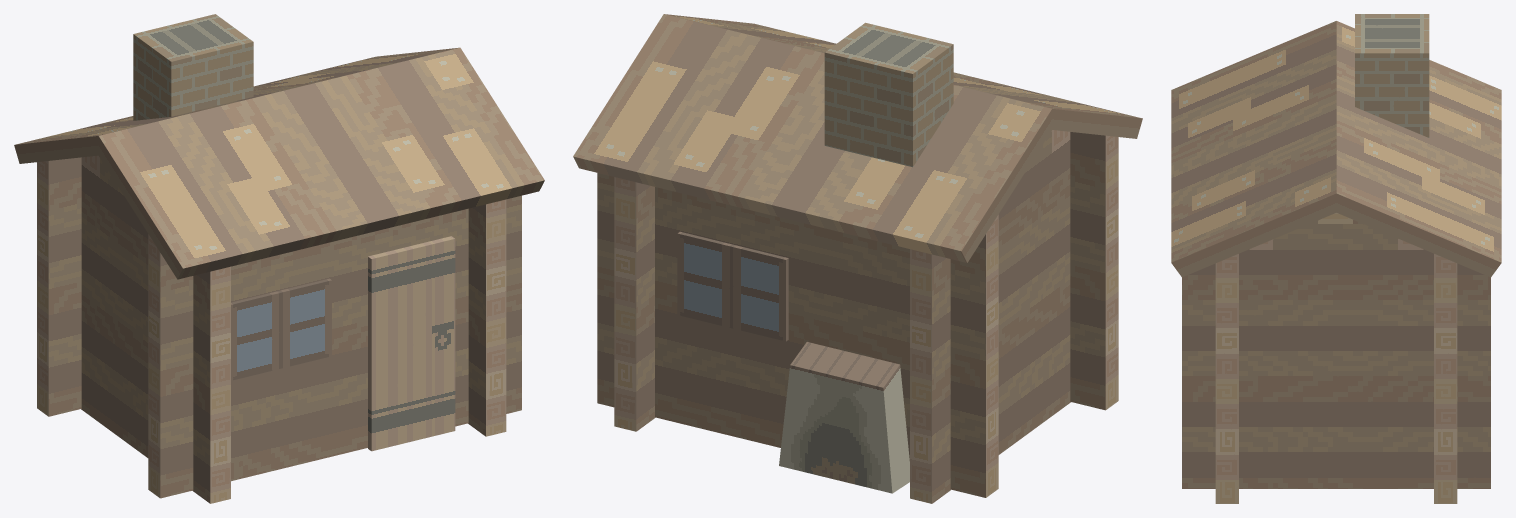
File: 0458_Log_Cabin.glb
3 renders of one model, left to right at view 1: azimuth 30°, elevation 25°; view 2: azimuth 150°, elevation 25°; view 3: azimuth 270°, elevation 25°, orthographic. The views are drawn at different scales.
Visible parts, largest first — view 1: part_0; view 2: part_0; view 3: part_0.
Boxes of the visible parts, x1,y1,x2,y2 form: part_0: [14, 14, 544, 503]; part_0: [573, 14, 1142, 503]; part_0: [1171, 14, 1501, 503].
Size of the model in its own units: 3.96 by 3.82 by 3.2.
Materials: 1 (1 with a texture image).
